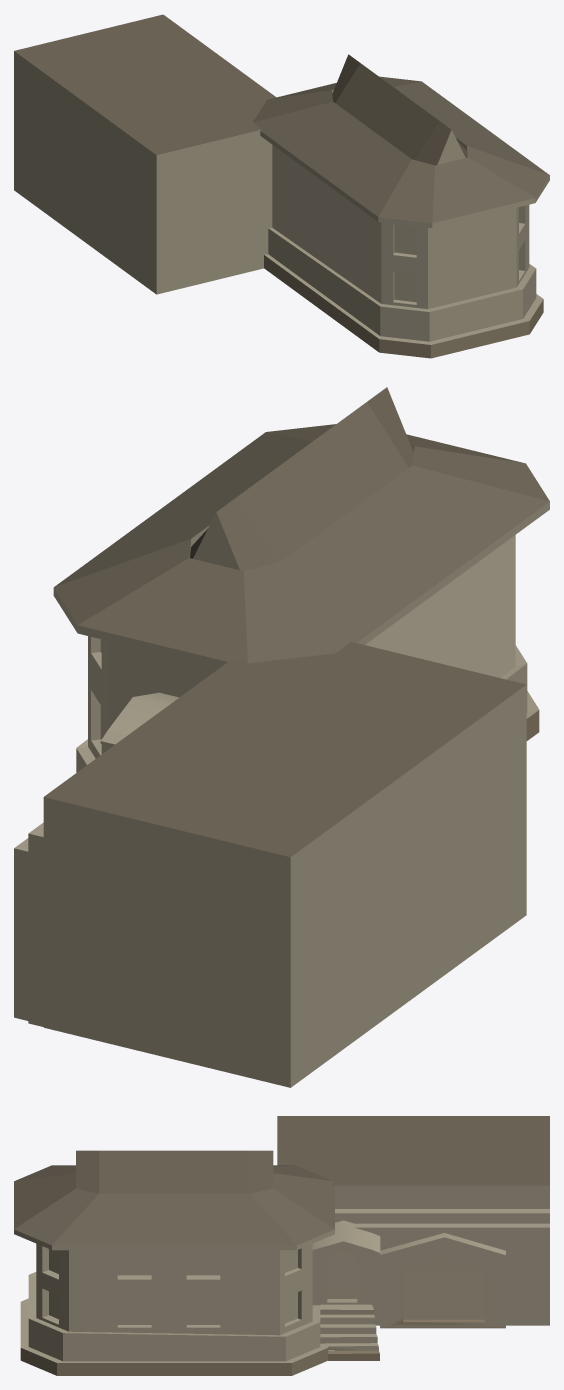
The picture shows the model from 3 angles, top to bottom: view 1: azimuth 30°, elevation 25°; view 2: azimuth 150°, elevation 25°; view 3: azimuth 270°, elevation 25°; orthographic projection. The views are drawn at different scales.
Parts seen in each view (by area): view 1: pCube47:PIV; view 2: pCube47:PIV; view 3: pCube47:PIV.
Boxes of the visible parts, bbox=[...] form: pCube47:PIV: bbox=[14, 14, 549, 358]; pCube47:PIV: bbox=[14, 387, 549, 1087]; pCube47:PIV: bbox=[14, 1116, 549, 1375].
Bounding box in the file's own units: 5.88 × 3.99 × 10.36.
